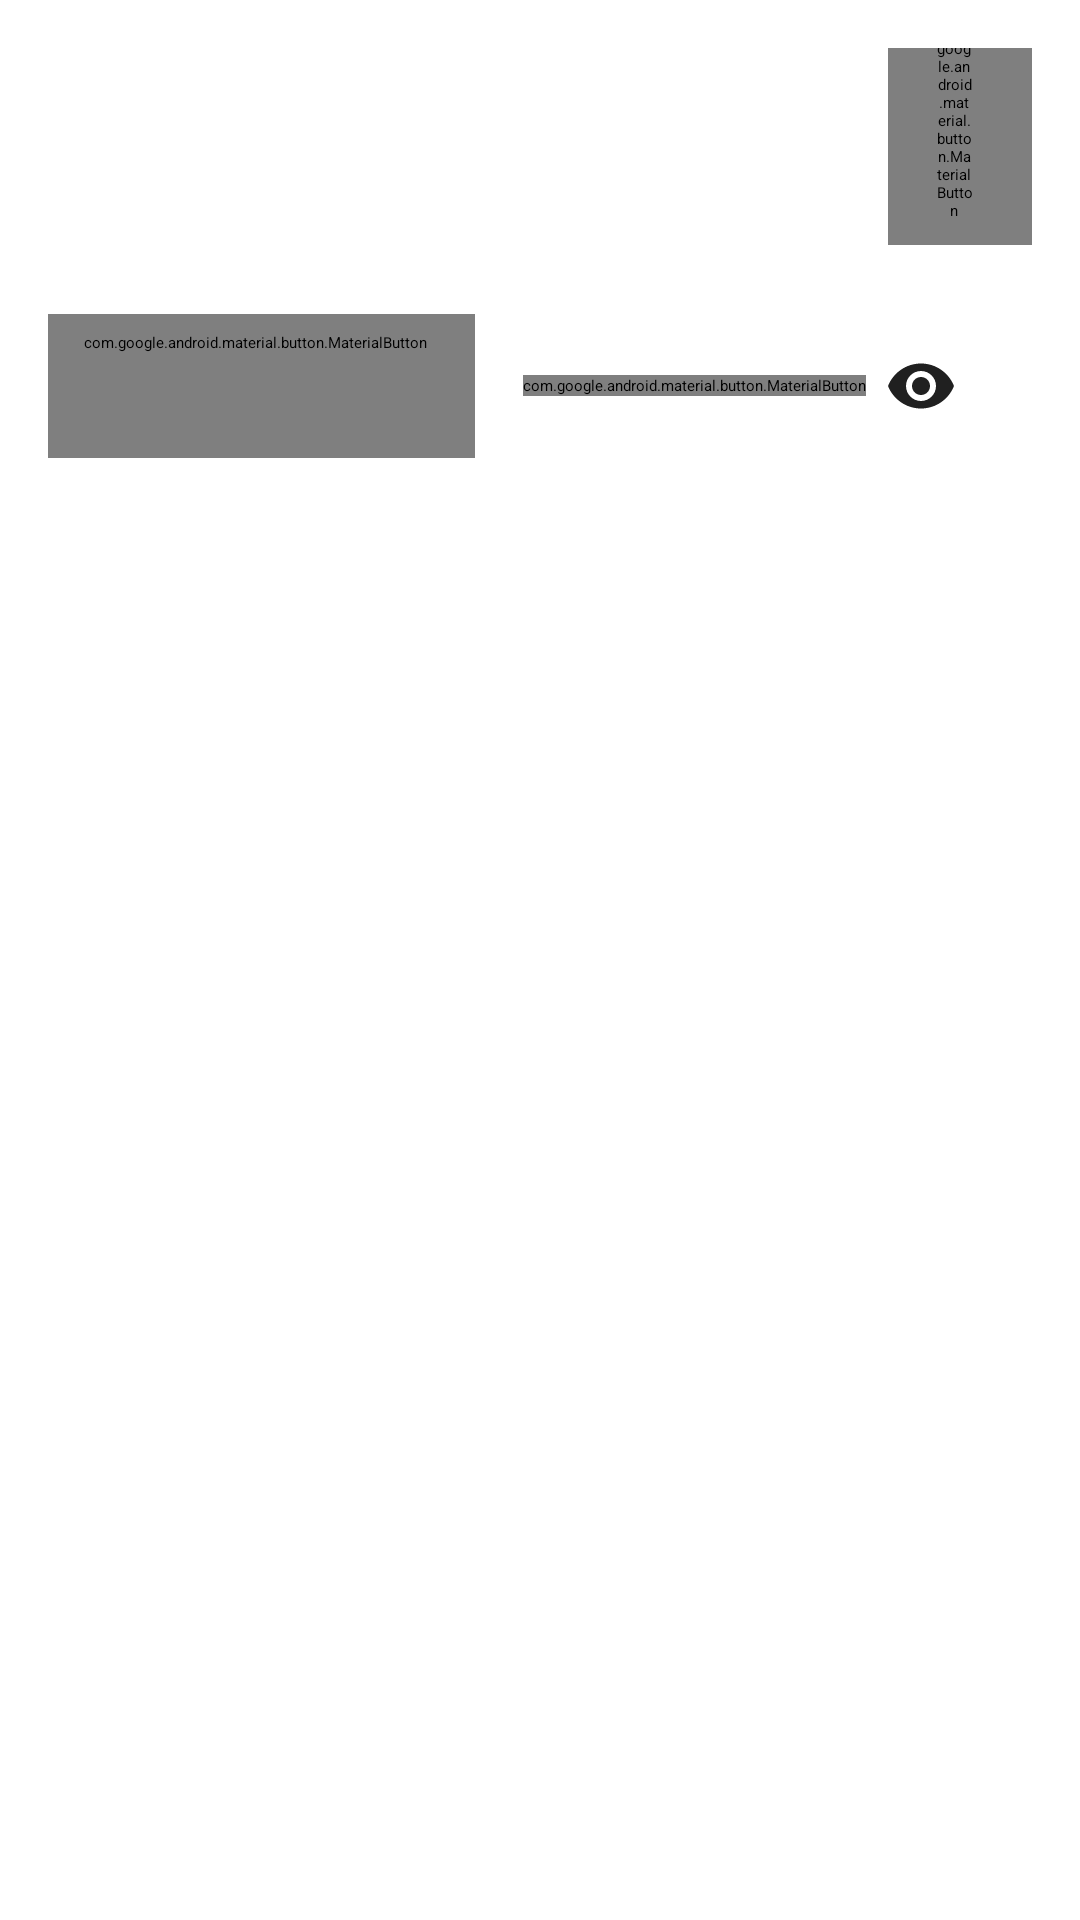

Icon bounding boxes for this 1080 x 1920 phone screenshot, format (x1, y1, x2, y2):
remove eye: (888, 363, 954, 409)
